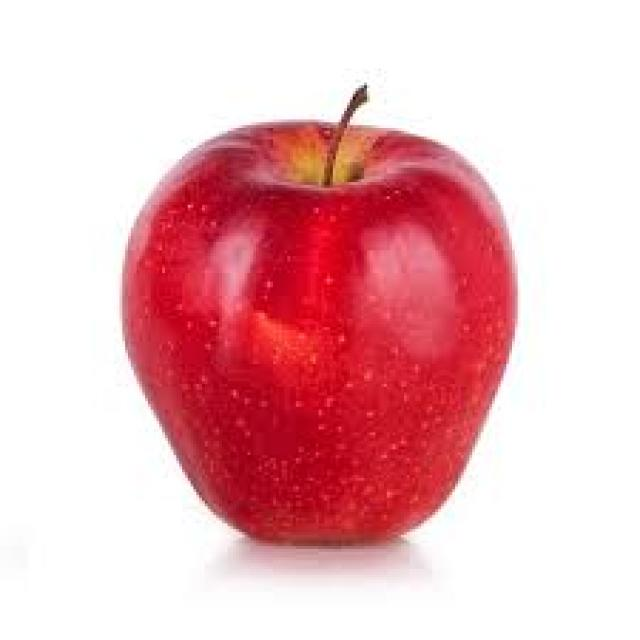apple: (114, 94, 528, 547)
